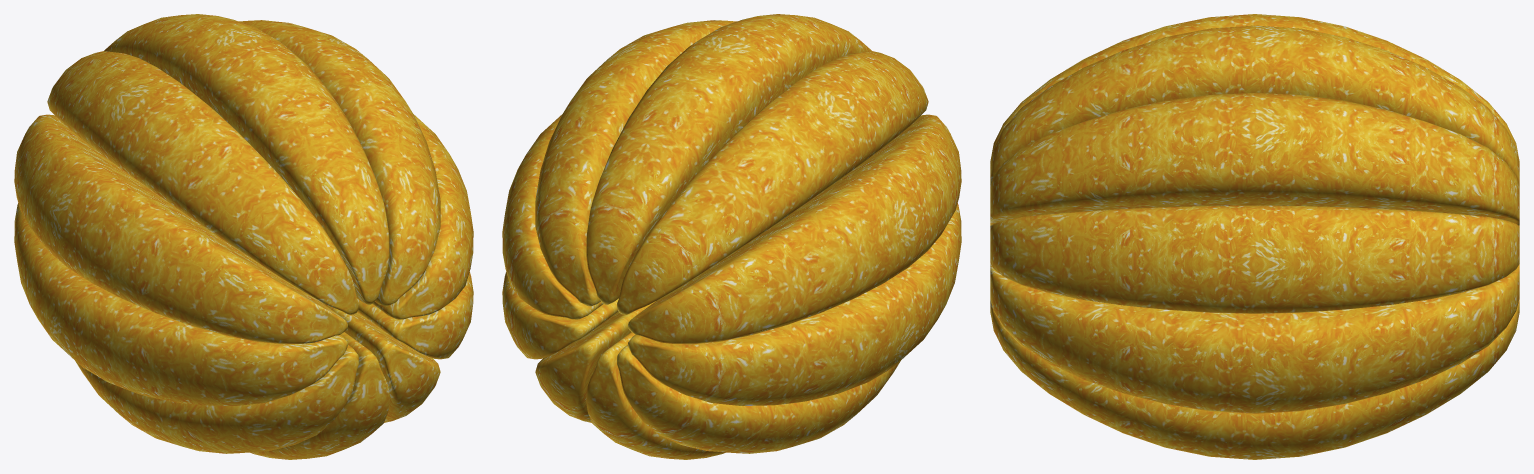
The model's file is OrangeFlesh.obj.
3 views of the same model, side by side, from view 1: azimuth 30°, elevation 25°; view 2: azimuth 150°, elevation 25°; view 3: azimuth 270°, elevation 25° (orthographic). The views are drawn at different scales.
Visible parts, largest first — view 1: OrangeFlesh; view 2: OrangeFlesh; view 3: OrangeFlesh.
Part boxes in pixels (x1,y1,x2,y2): OrangeFlesh: (14, 14, 473, 459); OrangeFlesh: (502, 14, 961, 459); OrangeFlesh: (990, 14, 1519, 459).
Size of the model in its own units: 0.0446 by 0.0462 by 0.0539.
1 material, 1 textured.
